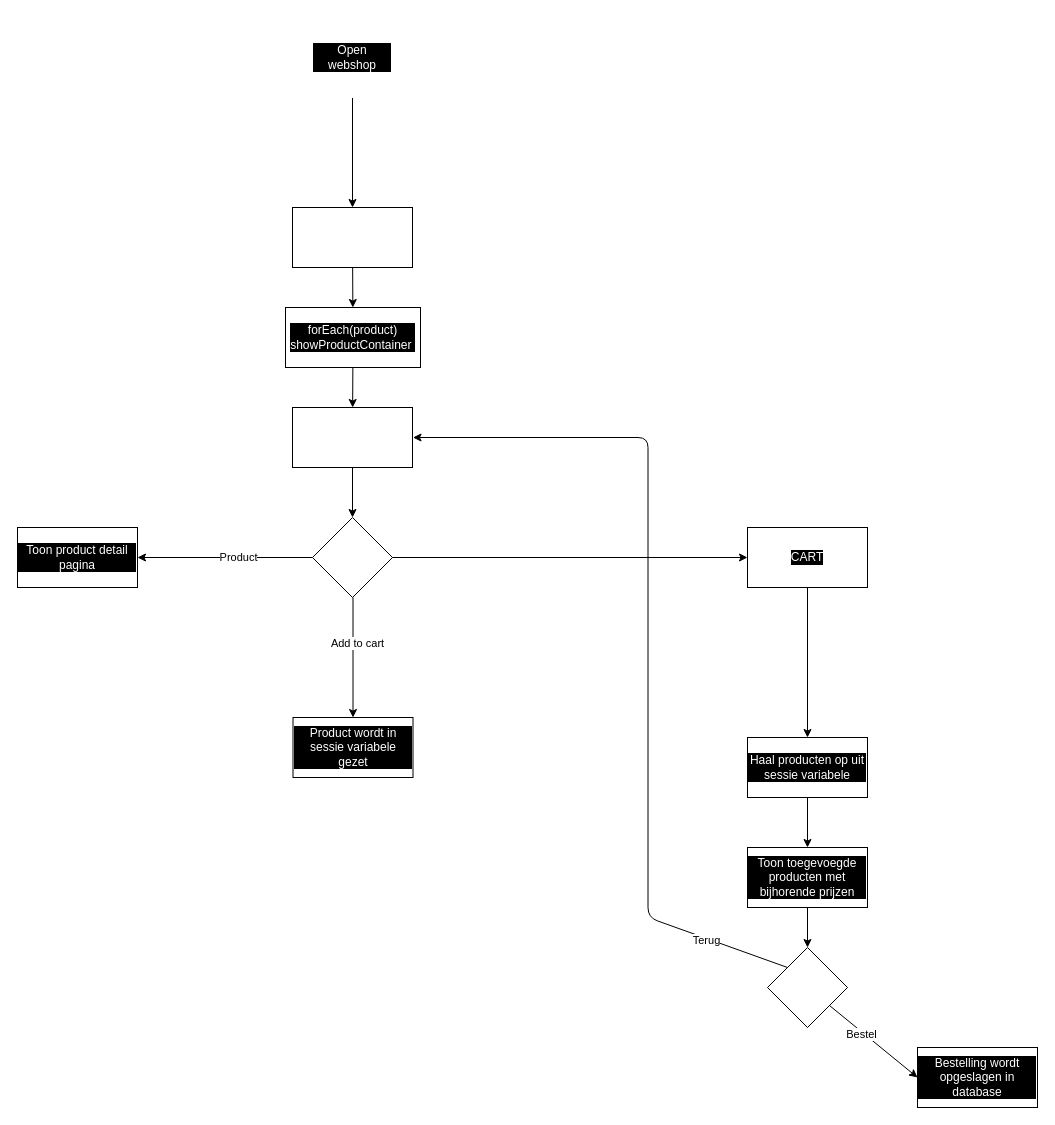
Image size: 1055x1125. Some labels were removed from this diagram. The centre of each missing label's shape, as x and y in pixels:
Haal producten op uit database: the point at 352,237
Knop?: the point at 807,987
Link?: the point at 352,557
Toon producten pagina: the point at 352,437
